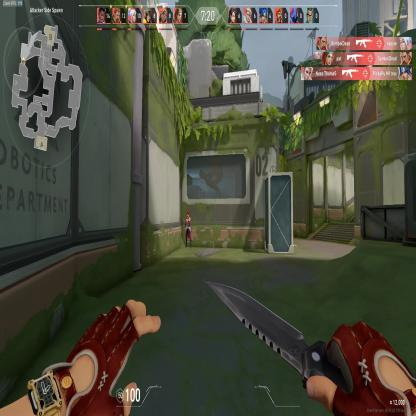enemy: (183, 209, 192, 250)
